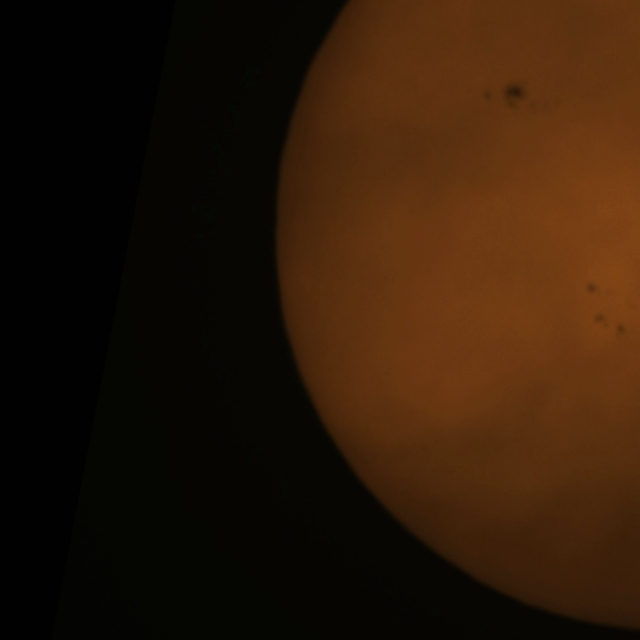sunspot: (592, 312, 626, 339), (502, 82, 526, 112), (584, 280, 598, 297)
